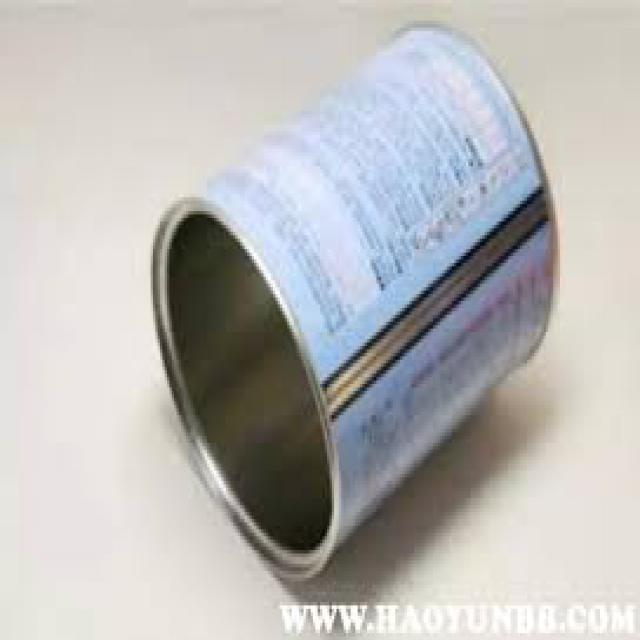metal-can: (143, 18, 562, 585)
